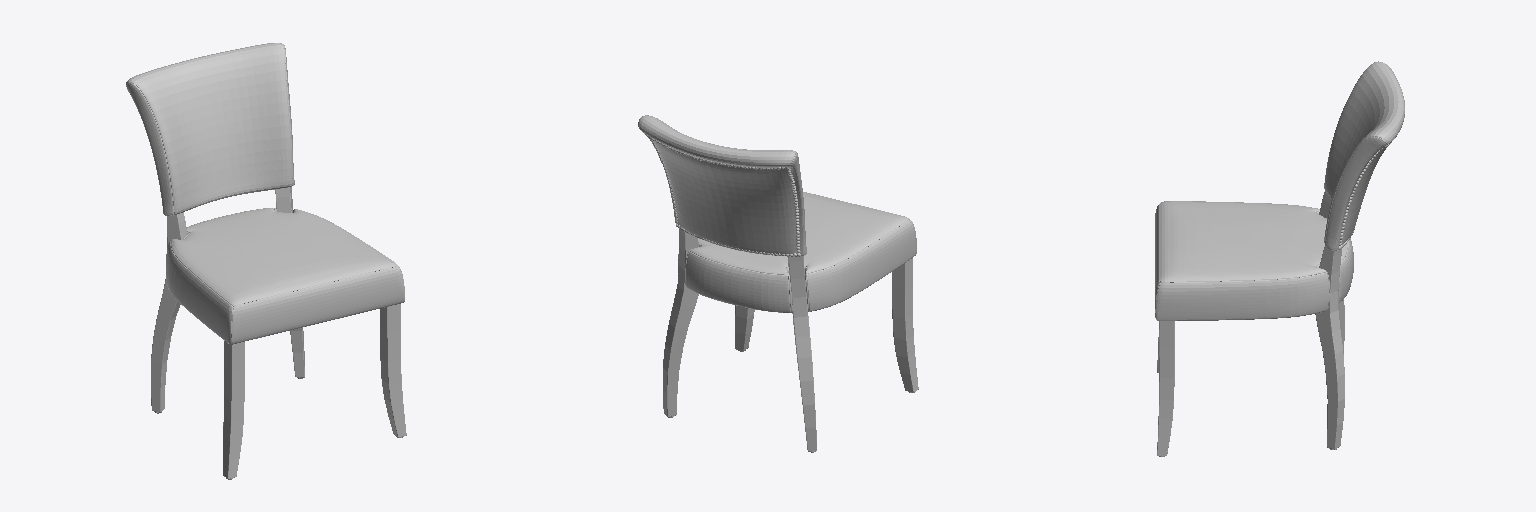
The model's file is chair.obj.
3 views of the same model, side by side, from view 1: azimuth 30°, elevation 25°; view 2: azimuth 150°, elevation 25°; view 3: azimuth 270°, elevation 25° (orthographic).
Parts seen in each view (by area): view 1: xiadele_Home_Concept_Mimi_Dining_Chair_1, xiadele_Home_Concept_Mimi_Dining_Chair_2; view 2: xiadele_Home_Concept_Mimi_Dining_Chair_1, xiadele_Home_Concept_Mimi_Dining_Chair_2; view 3: xiadele_Home_Concept_Mimi_Dining_Chair_1, xiadele_Home_Concept_Mimi_Dining_Chair_2.
Part boxes in pixels (bbox=[...]): xiadele_Home_Concept_Mimi_Dining_Chair_1: bbox=[126, 43, 404, 344]; xiadele_Home_Concept_Mimi_Dining_Chair_2: bbox=[151, 187, 406, 479]; xiadele_Home_Concept_Mimi_Dining_Chair_1: bbox=[638, 115, 916, 312]; xiadele_Home_Concept_Mimi_Dining_Chair_2: bbox=[663, 229, 918, 452]; xiadele_Home_Concept_Mimi_Dining_Chair_1: bbox=[1155, 61, 1404, 320]; xiadele_Home_Concept_Mimi_Dining_Chair_2: bbox=[1157, 191, 1344, 456].
Size of the model in its own units: 527 by 892 by 640.